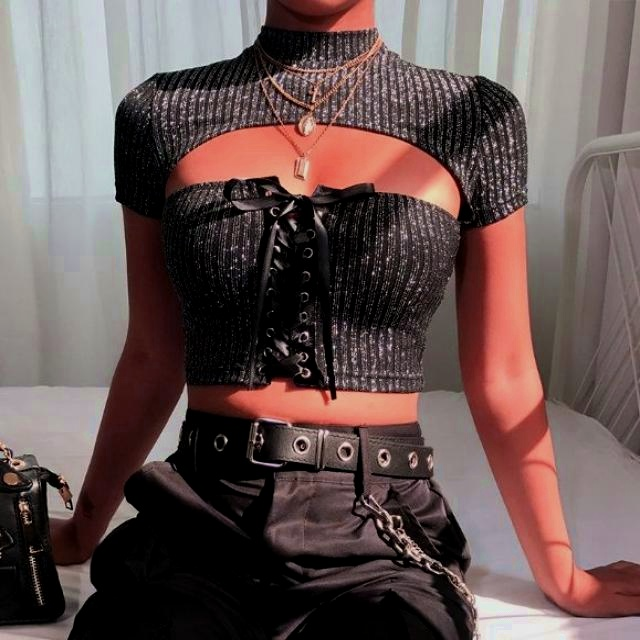Crop_Top: (161, 224, 461, 426)
low_neckline: (160, 122, 463, 390)
